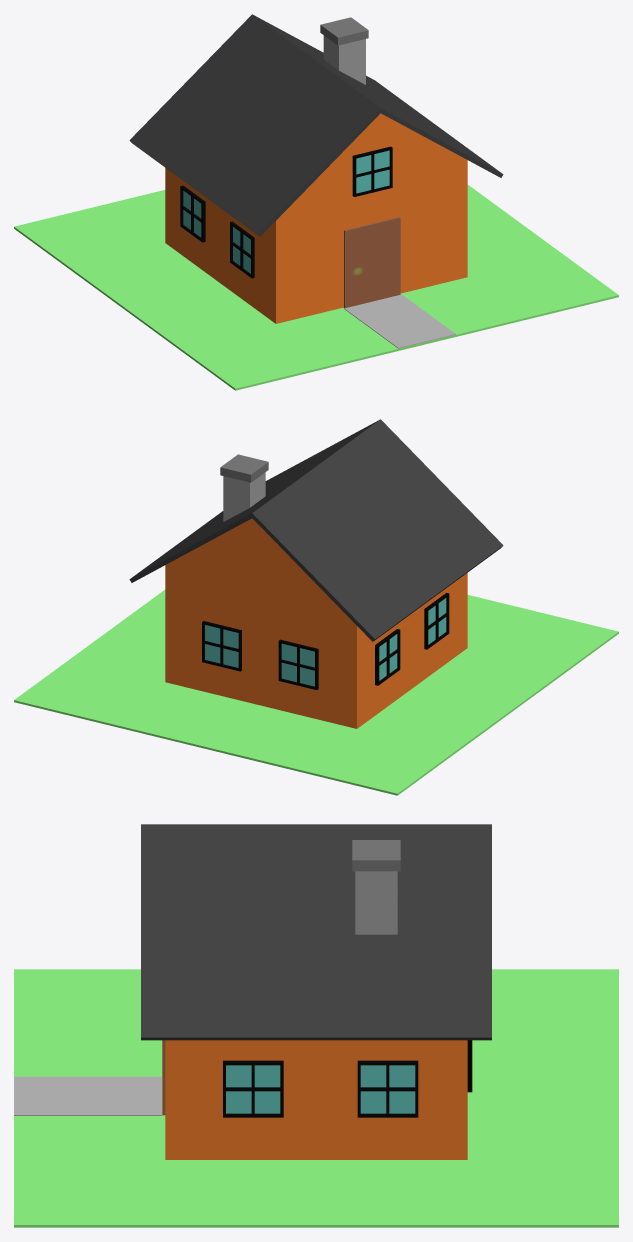
Rendered from house1_orange.gltf.
The picture shows the model from 3 angles, top to bottom: view 1: azimuth 30°, elevation 25°; view 2: azimuth 150°, elevation 25°; view 3: azimuth 270°, elevation 25°; orthographic projection. The views are drawn at different scales.
Visible parts, largest first — view 1: Cube, house.002, house_cube, house.001, house.005, house.003, house.056, house.004, house.007, house.006; view 2: Cube, house.002, house_cube, house.001, house.003, house.004, house.035, house.042, house.006, house.021, house.049; view 3: Cube, house.003, house_cube, house.056, house.004, house.028, house.014, house.006.
Boxes of the visible parts, x1=… form: Cube: x1=14, y1=185, x2=618, y2=390; house.002: x1=129, y1=14, x2=382, y2=236; house_cube: x1=165, y1=159, x2=467, y2=323; house.001: x1=295, y1=113, x2=465, y2=200; house.005: x1=343, y1=217, x2=400, y2=308; house.003: x1=253, y1=15, x2=503, y2=177; house.056: x1=344, y1=294, x2=455, y2=348; house.004: x1=323, y1=35, x2=365, y2=84; house.007: x1=356, y1=150, x2=389, y2=193; house.006: x1=320, y1=17, x2=368, y2=45; Cube: x1=14, y1=590, x2=618, y2=795; house.002: x1=250, y1=419, x2=503, y2=641; house_cube: x1=165, y1=564, x2=467, y2=728; house.001: x1=167, y1=518, x2=337, y2=605; house.003: x1=129, y1=420, x2=379, y2=582; house.004: x1=223, y1=472, x2=265, y2=521; house.035: x1=205, y1=625, x2=238, y2=667; house.042: x1=281, y1=643, x2=314, y2=686; house.006: x1=220, y1=454, x2=268, y2=482; house.021: x1=428, y1=598, x2=446, y2=644; house.049: x1=379, y1=634, x2=397, y2=680; Cube: x1=14, y1=969, x2=618, y2=1227; house.003: x1=141, y1=824, x2=491, y2=1040; house_cube: x1=165, y1=1040, x2=467, y2=1159; house.056: x1=14, y1=1076, x2=161, y2=1115; house.004: x1=355, y1=871, x2=397, y2=934; house.028: x1=360, y1=1065, x2=415, y2=1113; house.014: x1=226, y1=1065, x2=280, y2=1113; house.006: x1=352, y1=840, x2=400, y2=871.
Bounding box in the file's own units: 20 × 10.32 × 20.
Materials: 2 (2 with a texture image).
